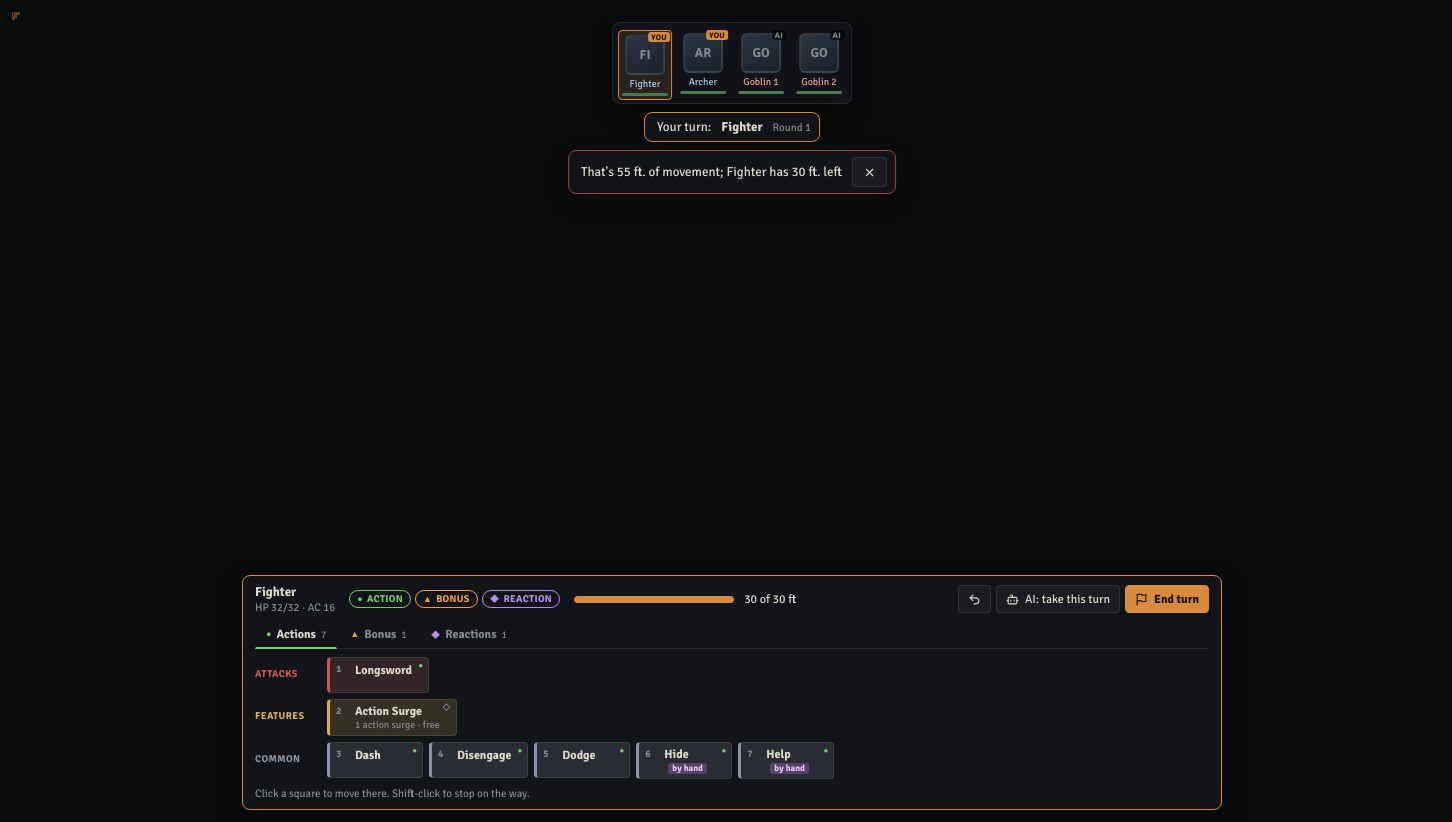
the dock on your creature's turn › a move refused says why under the banner, leaving the turn's buttons where they are
Check: the message shows "ft. of movement; Fighter has 30 ft. left", box [581,164,842,180]
Check: the button "End turn" is shown, box [1125,585,1209,613]
Click the button named "Dismiss" at [869, 172], box [852,157,887,187]
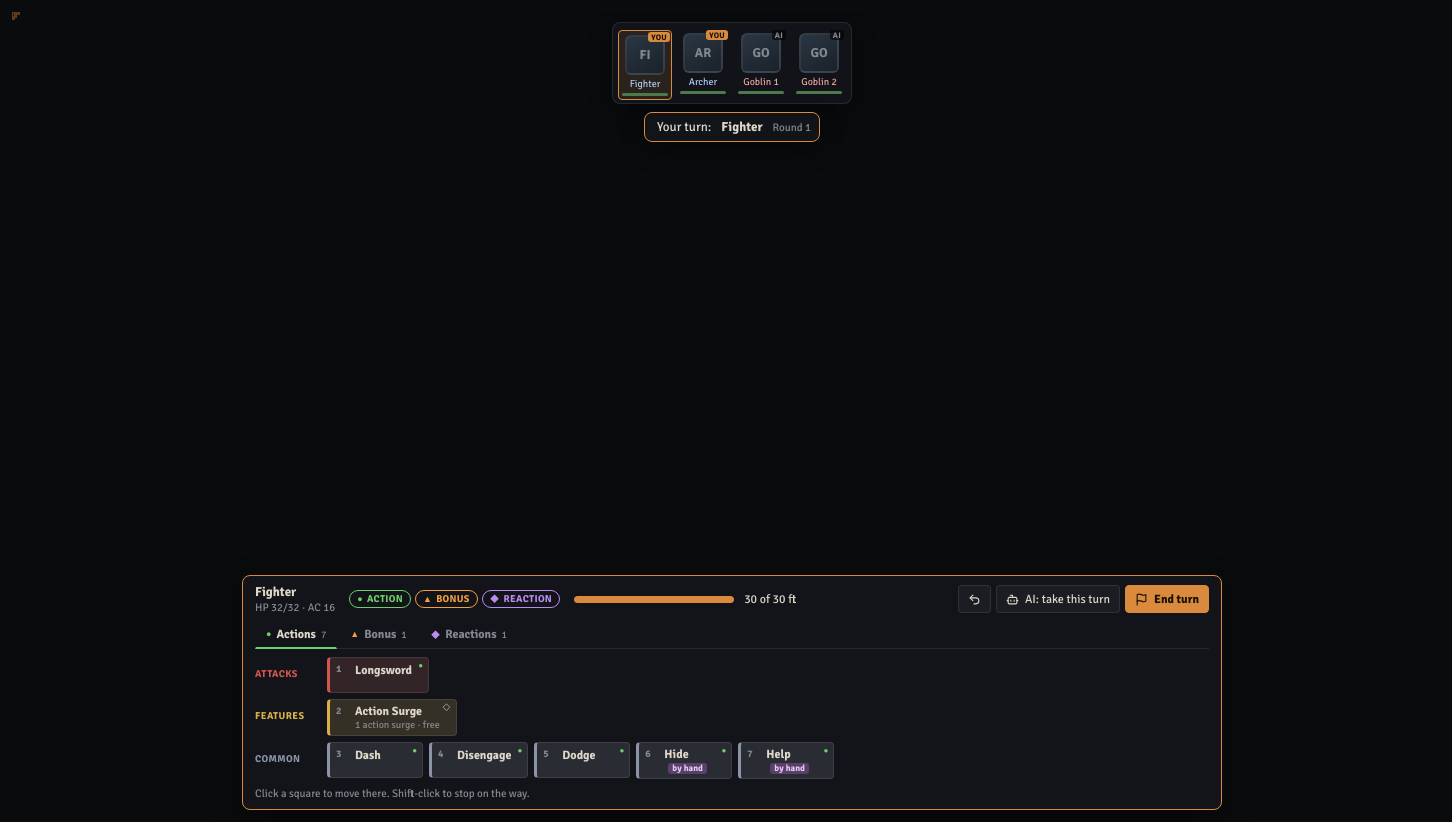
Check: the message "That's 55 ft. of movement; Fighter has 30 ft. left" is gone
